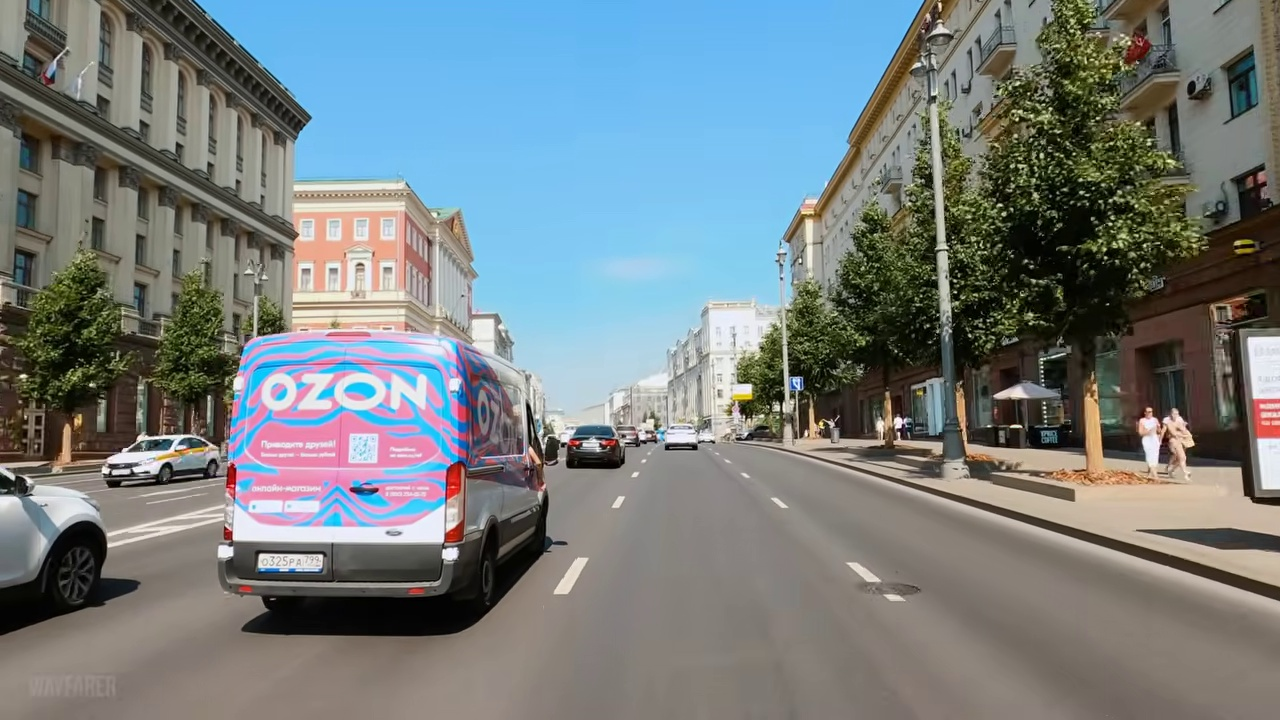apagada: (909, 17, 953, 88)
